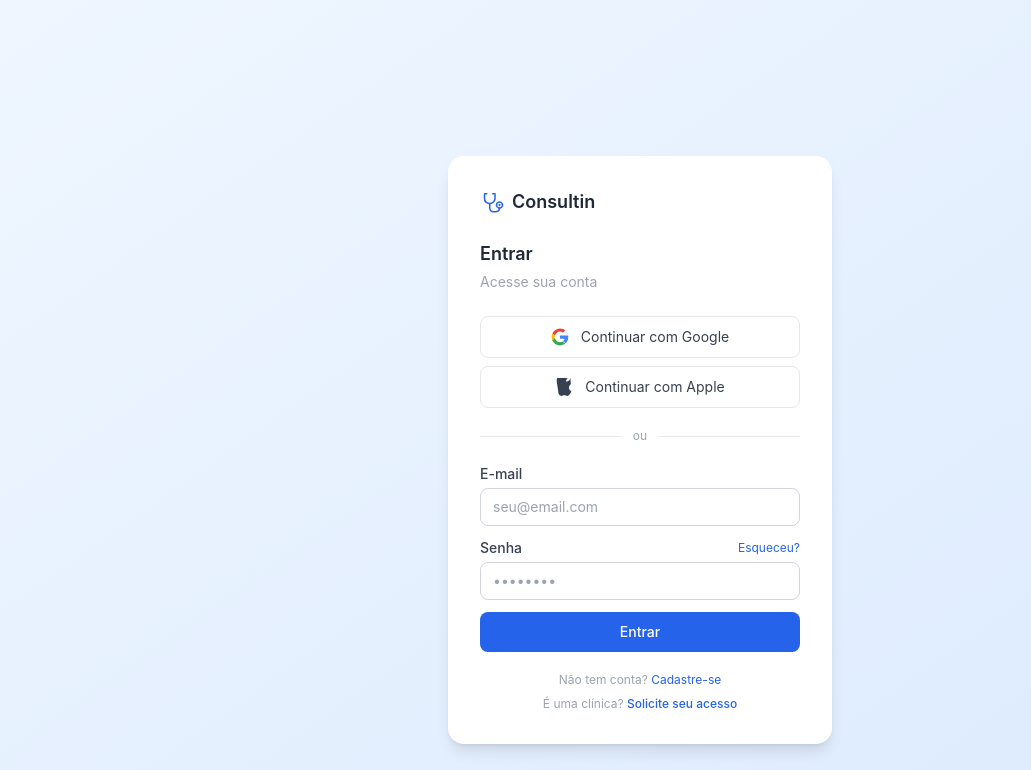
Scenario: LoginPage — register view › switches to register view when "Cadastre-se" is clicked
Click the button "Cadastre-se". click: (686, 680)
box: [651,672,721,688]
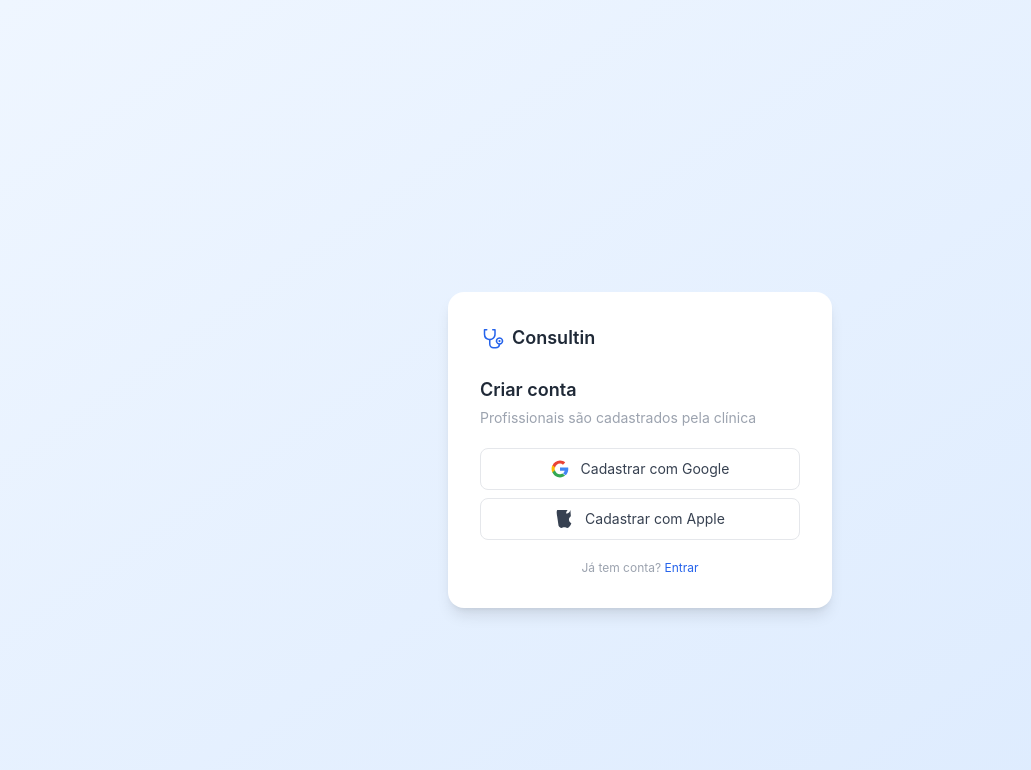
expect the heading "Criar conta" is shown: met, box [480,379,576,400]
